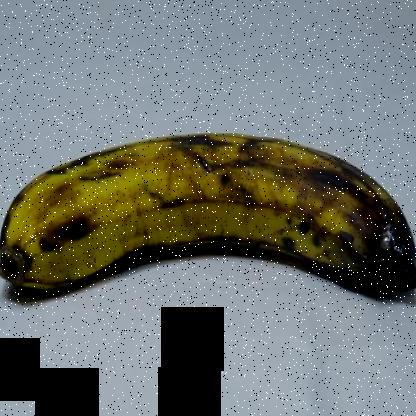overripe: (1, 115, 415, 356)
rotten: (289, 157, 415, 322)
